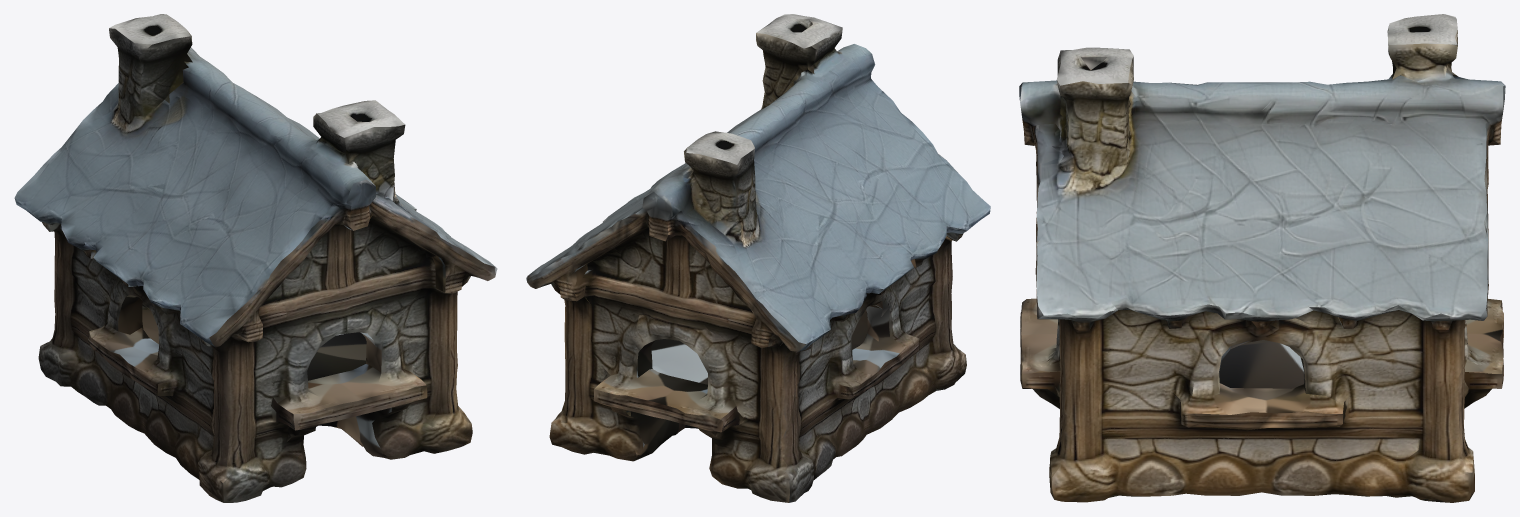
The model's file is bakehouse.glb.
The picture shows the model from 3 angles, left to right: view 1: azimuth 30°, elevation 25°; view 2: azimuth 150°, elevation 25°; view 3: azimuth 270°, elevation 25°; orthographic projection. The views are drawn at different scales.
Visible parts, largest first — view 1: Fantasy Cottage; view 2: Fantasy Cottage; view 3: Fantasy Cottage.
Boxes of the visible parts, x1=… form: Fantasy Cottage: x1=14, y1=14, x2=497, y2=502; Fantasy Cottage: x1=526, y1=14, x2=990, y2=502; Fantasy Cottage: x1=1019, y1=14, x2=1505, y2=502.
Size of the model in its own units: 0.1078 by 0.12 by 0.1352.
1 material, 1 textured.
